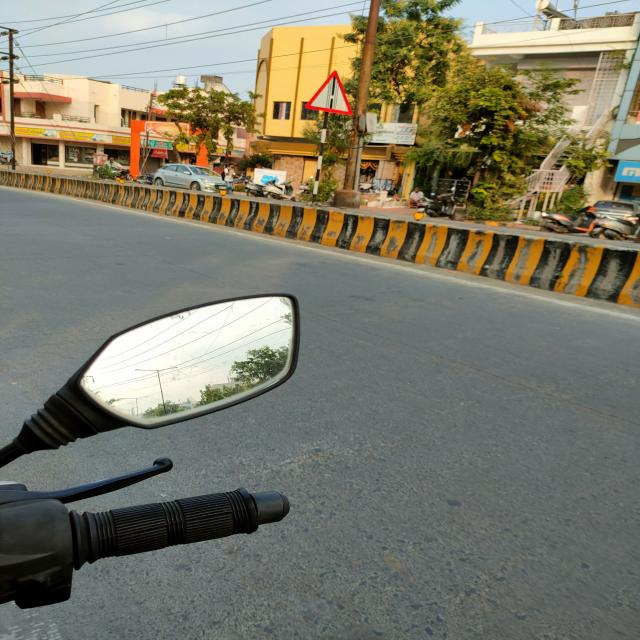GAP_IN_MEDIAN: (303, 70, 354, 115)
